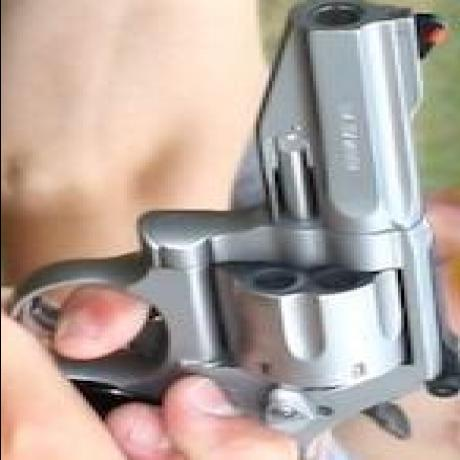weapon: (110, 8, 448, 433)
